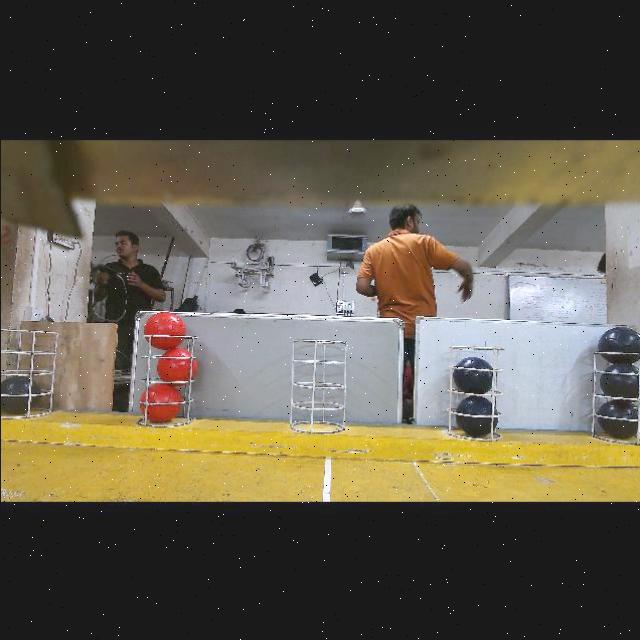P: (455, 396, 497, 434), (597, 327, 640, 363), (598, 401, 638, 439), (453, 358, 493, 394), (1, 377, 40, 413), (599, 363, 637, 399)
R: (143, 312, 186, 349), (144, 382, 180, 422), (156, 347, 194, 383)
S: (128, 330, 200, 428), (0, 317, 58, 418), (288, 342, 350, 430), (446, 344, 502, 438), (586, 349, 640, 441)
